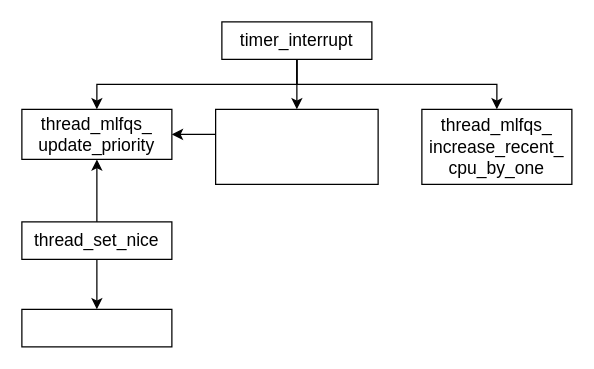
The diagram is 594 pixels wide and 369 high, and some of its shapes have lost their labels. The centre of each missing label's shape, as x and y in pixels:
thread_mlfqs_ update_load_avg_ and_recent_cpu: the point at 296,146
thread_yield: the point at 96,327
